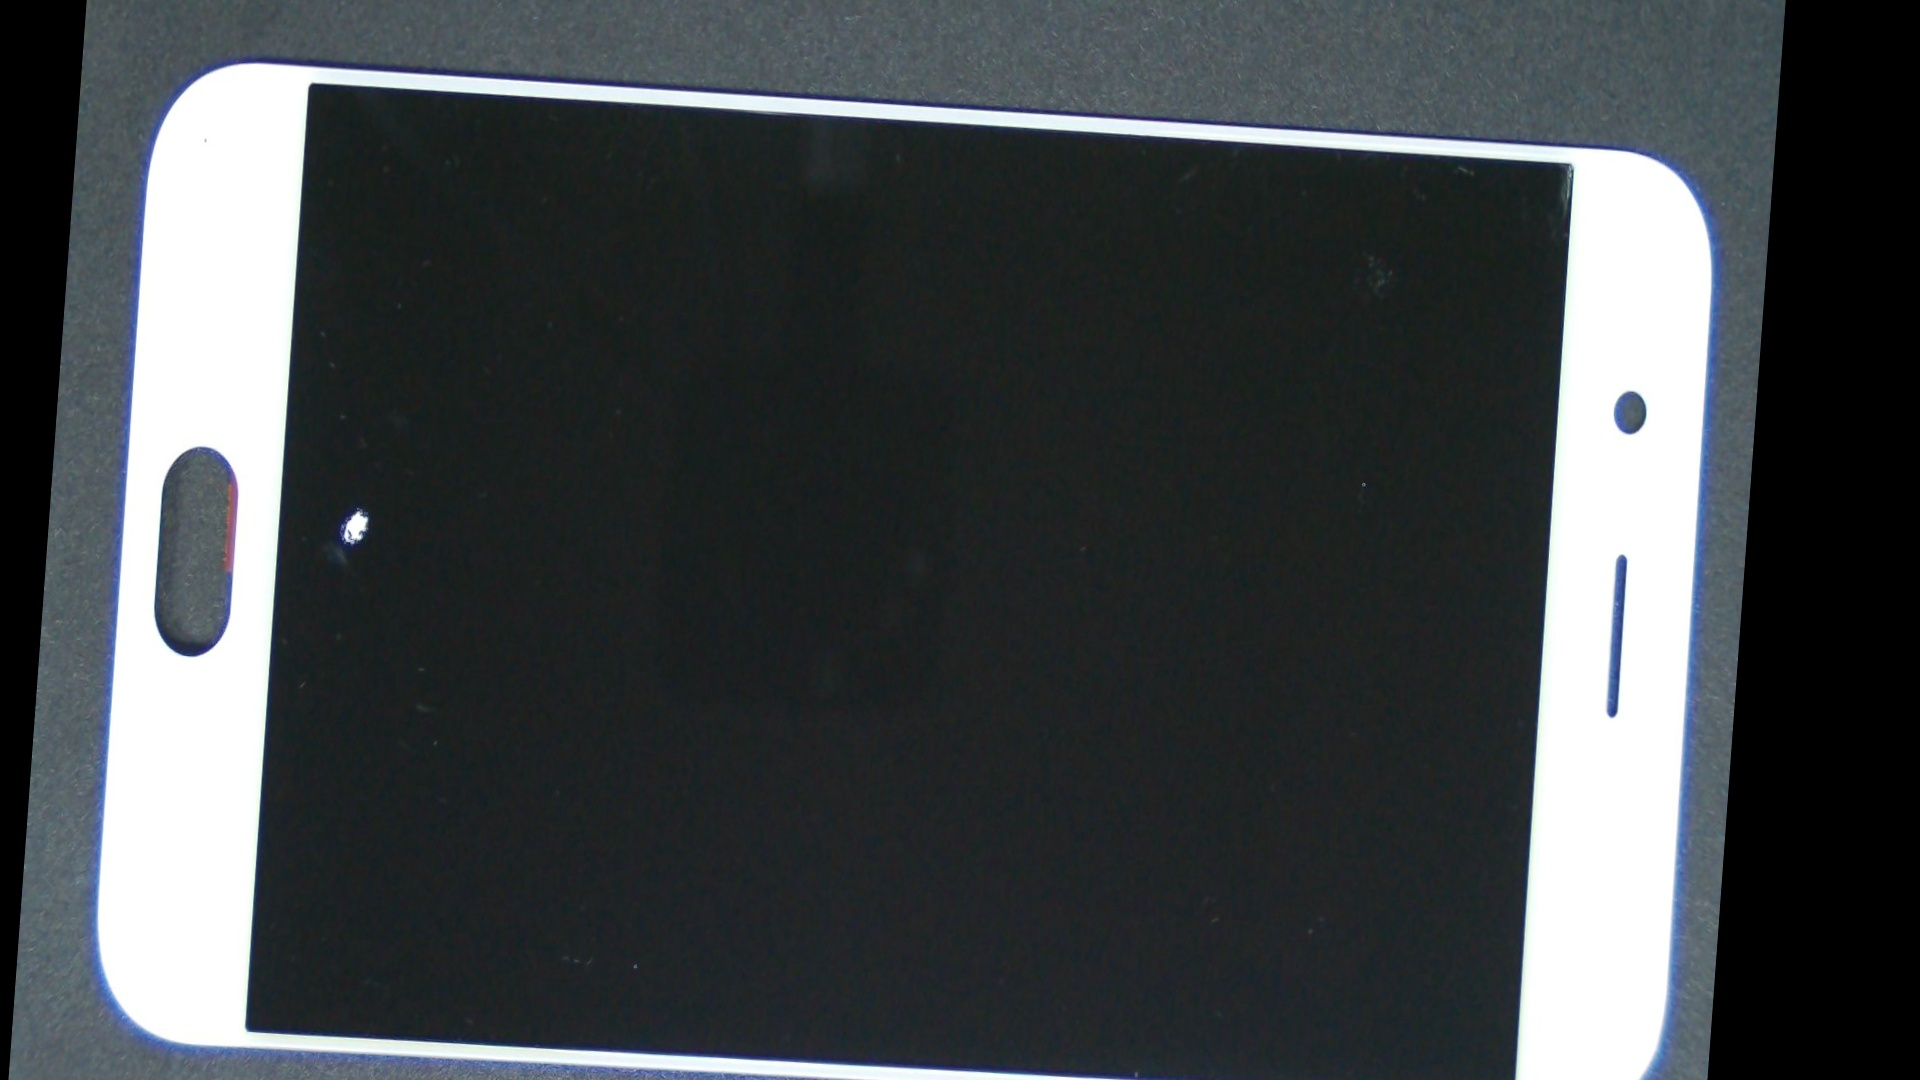oil: (185, 186, 537, 825)
